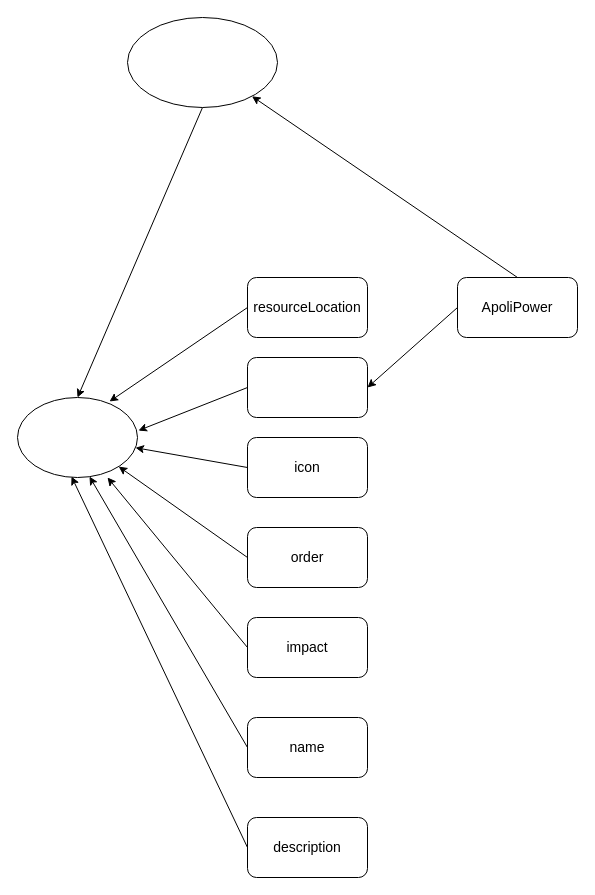
This 595x895 diagram has some shape labels left out. Here are the shapes that lost their labels. From the top down, the centre of each, then its label:
At [202,62]: "Datapack Registry".
At [307,387]: "powerDataJsons".
At [77,437]: "Origin".
